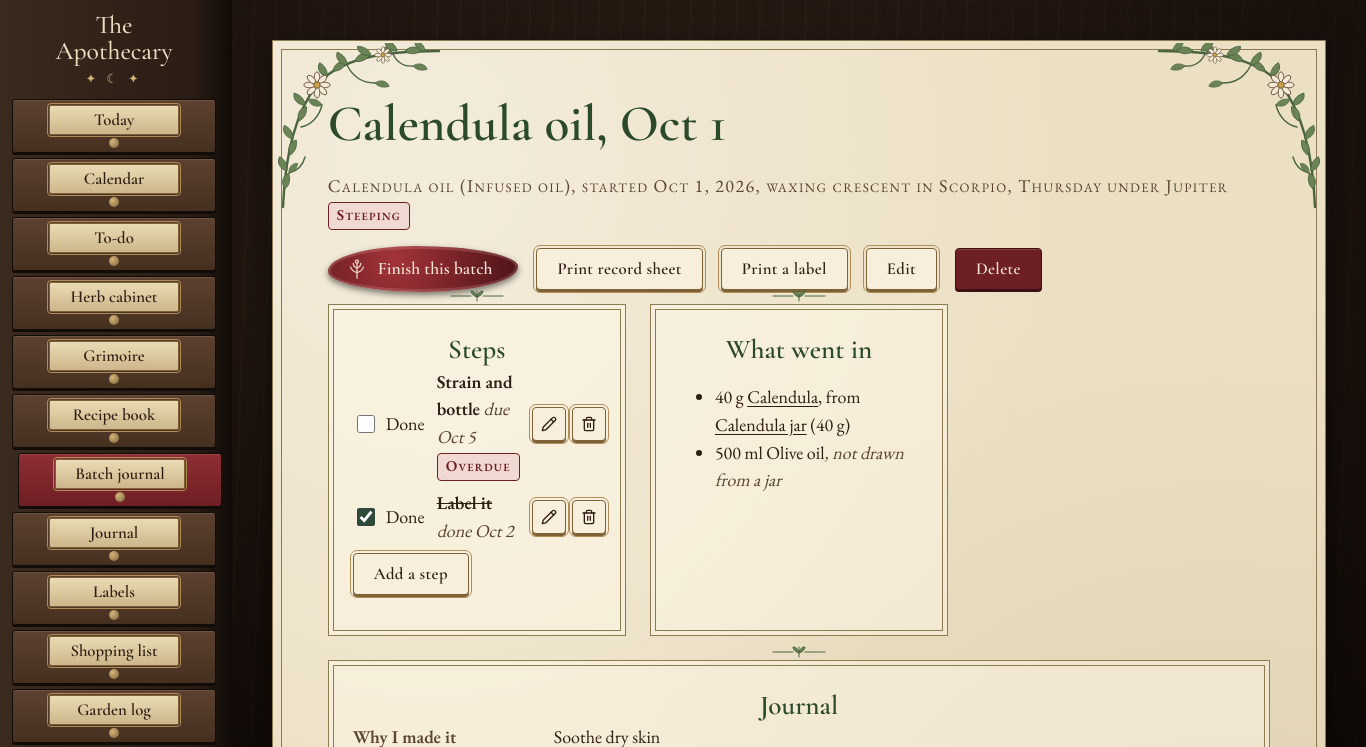
adds a step
Click the button "Add a step".
click(411, 574)  # box [353,552,469,594]
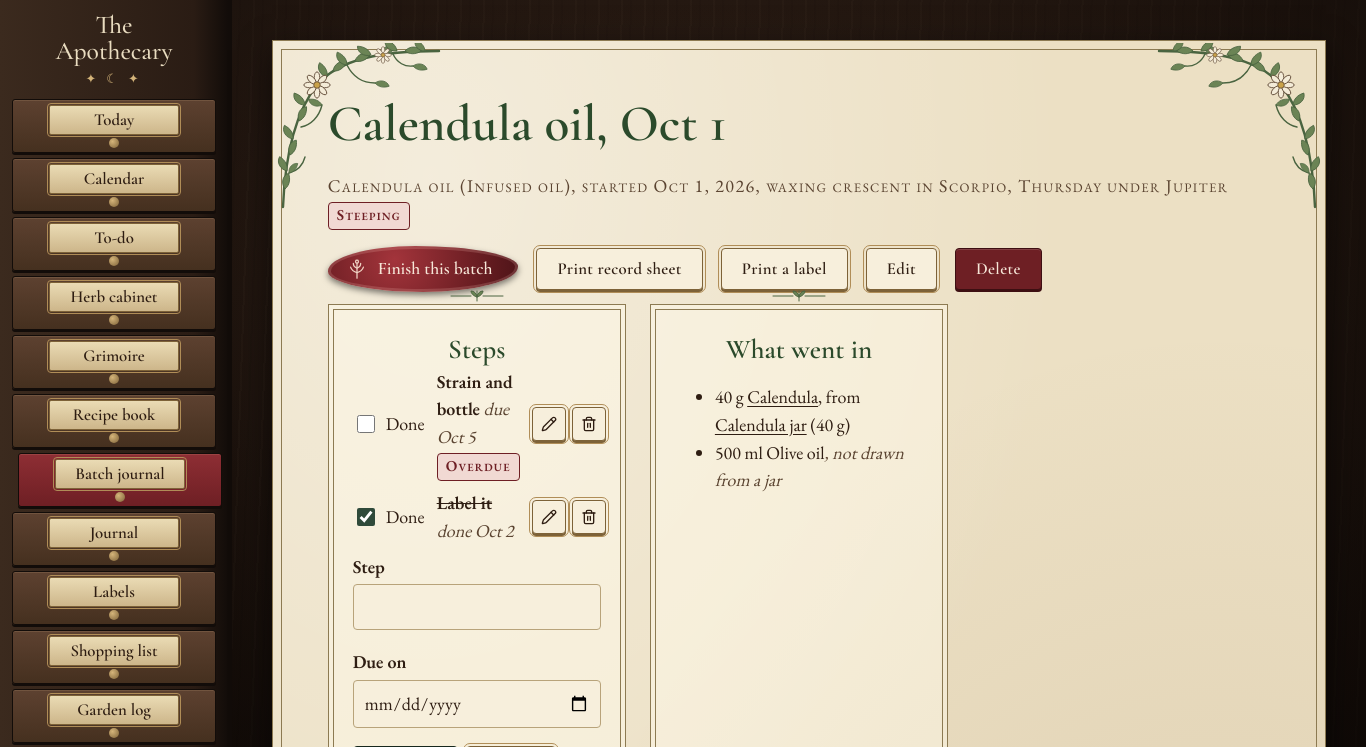
Type "Rinse the jars" into the field labelled "Step".
click(477, 607); type("Rinse the jars")  # box [353,584,601,630]
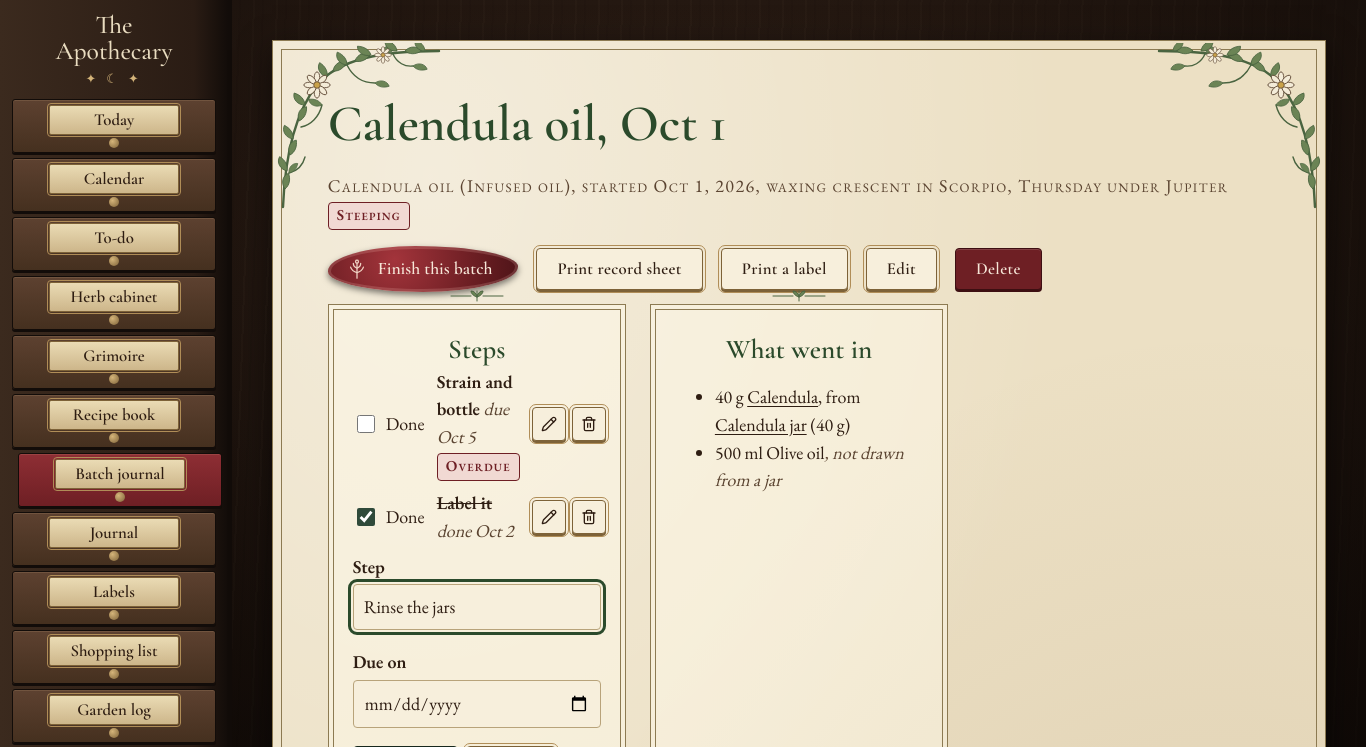
Type "2026-10-20" into the date field labelled "Due on".
click(477, 704); type("2026-10-20")  # box [353,680,601,728]
(page scrolled)
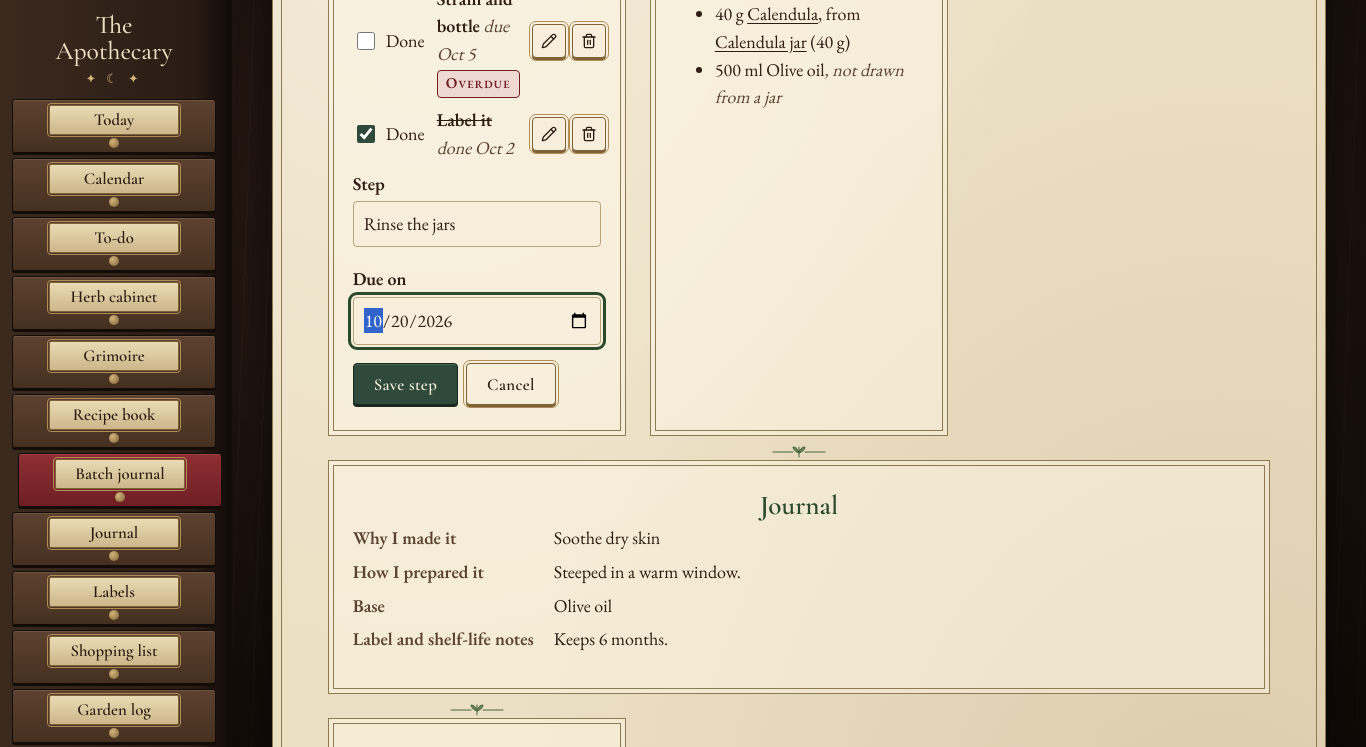
Click the button "Save step".
click(405, 384)  # box [353,363,458,405]
(page scrolled)
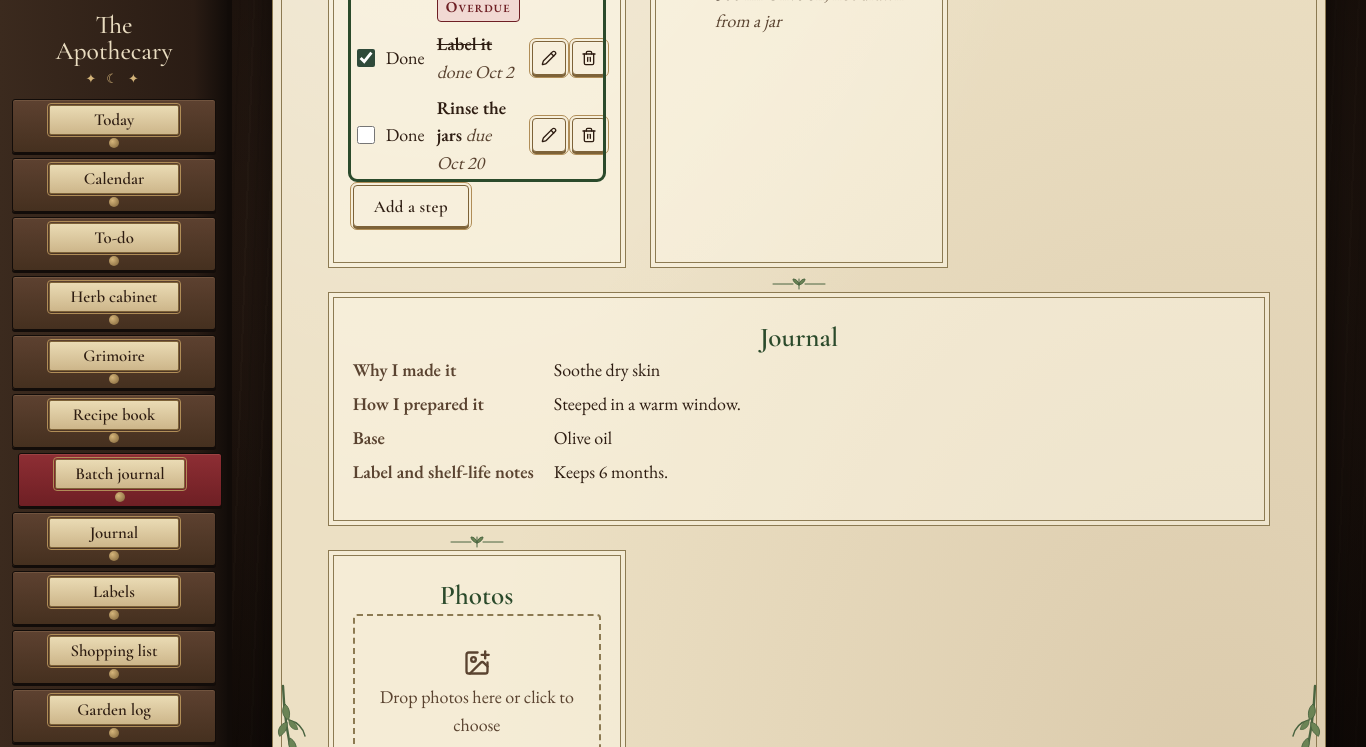
Now the text "Rinse the jars" is shown, box [437,96,506,146]
